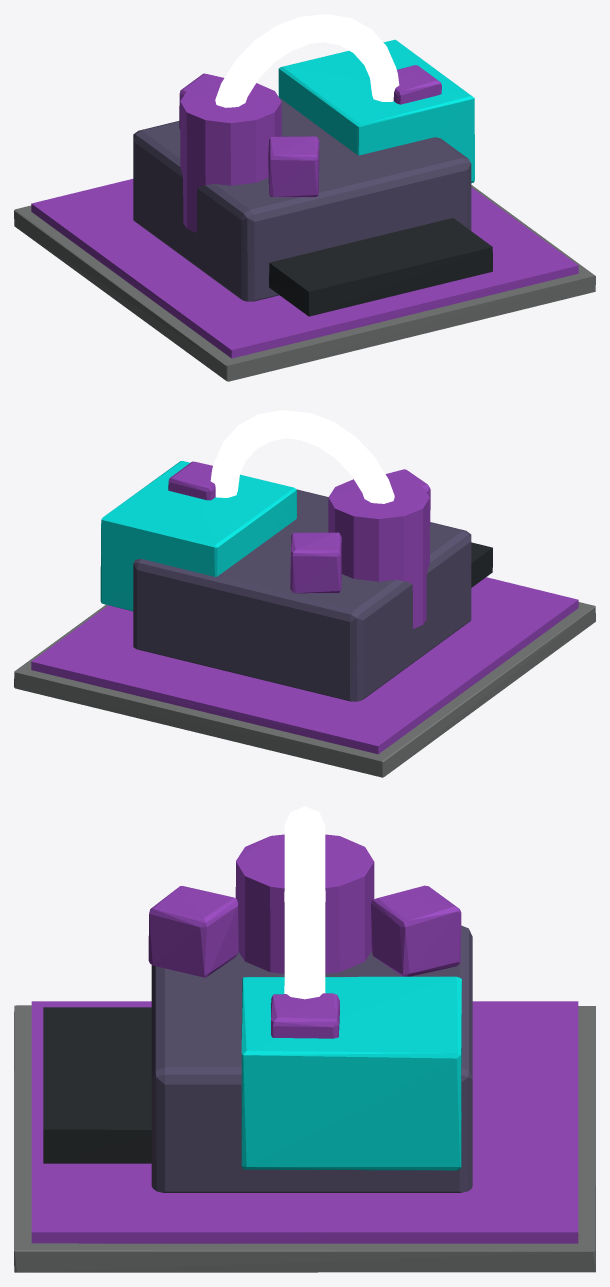
The model's file is SM_Chronolegion_CH_Refinery_LOD1.fbx.
3 renders of one model, top to bottom at view 1: azimuth 30°, elevation 25°; view 2: azimuth 150°, elevation 25°; view 3: azimuth 270°, elevation 25°, orthographic. The views are drawn at different scales.
Parts seen in each view (by area): view 1: LOD01_SM_Chronolegion_CH_Refinery; view 2: LOD01_SM_Chronolegion_CH_Refinery; view 3: LOD01_SM_Chronolegion_CH_Refinery.
Part boxes in pixels (x1,y1,x2,y2): LOD01_SM_Chronolegion_CH_Refinery: (14, 14, 595, 381); LOD01_SM_Chronolegion_CH_Refinery: (14, 410, 595, 777); LOD01_SM_Chronolegion_CH_Refinery: (14, 806, 595, 1272).
Bounding box in the file's own units: 799 × 798 × 500.
